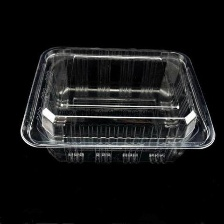plastic_box: (11, 38, 223, 169)
